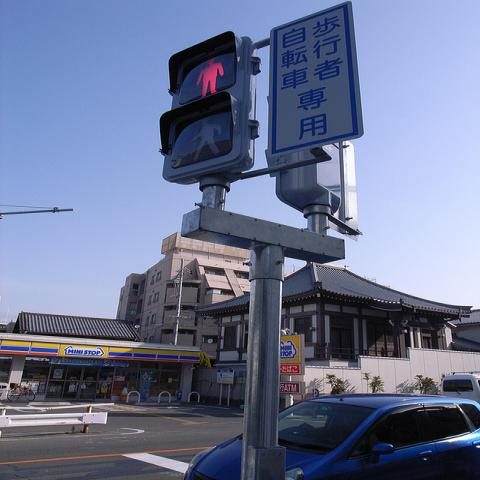car: (181, 393, 479, 479)
